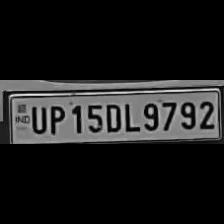1: (67, 102, 83, 132)
2: (196, 98, 216, 130)
5: (83, 101, 103, 133)
7: (158, 98, 176, 132)
9: (139, 99, 159, 131), (178, 98, 196, 130)
D: (102, 102, 122, 132)
L: (120, 100, 138, 132)
P: (46, 103, 66, 135)
U: (27, 102, 47, 134)
